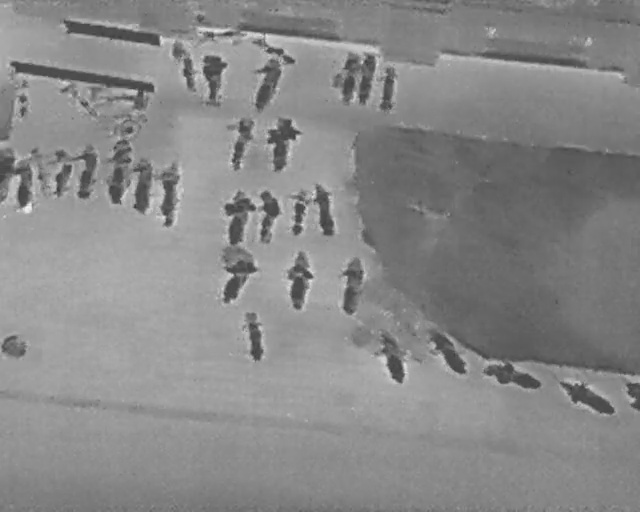Bicycle: (241, 42, 295, 117), (203, 246, 263, 312), (550, 372, 622, 422), (477, 351, 546, 401), (419, 319, 473, 382), (258, 111, 306, 174), (330, 252, 372, 318), (277, 246, 318, 313), (217, 186, 259, 248), (370, 325, 410, 388), (40, 135, 78, 201), (220, 111, 258, 173), (247, 188, 286, 247), (104, 135, 134, 209), (152, 161, 183, 229), (308, 176, 339, 239), (61, 80, 104, 124), (351, 47, 381, 110), (71, 138, 100, 203), (126, 154, 156, 216), (238, 308, 267, 366), (283, 184, 313, 239), (336, 47, 363, 108), (199, 52, 228, 104), (12, 153, 37, 213), (375, 64, 402, 113), (7, 86, 36, 123), (116, 111, 146, 139), (178, 52, 197, 96), (0, 148, 15, 201), (625, 379, 639, 409)
